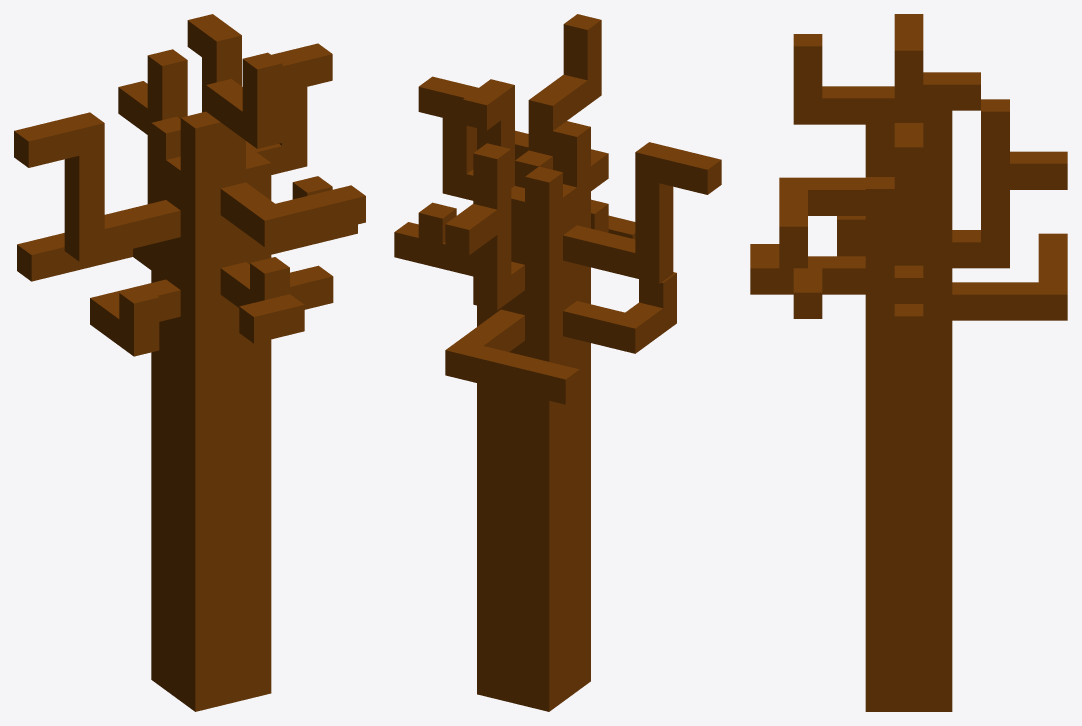
File: dead_tree_1.obj
3 renders of one model, left to right at view 1: azimuth 30°, elevation 25°; view 2: azimuth 150°, elevation 25°; view 3: azimuth 270°, elevation 25°, orthographic. The views are drawn at different scales.
Size of the model in its own units: 2.6 by 5 by 2.2.
1 material, 1 textured.
